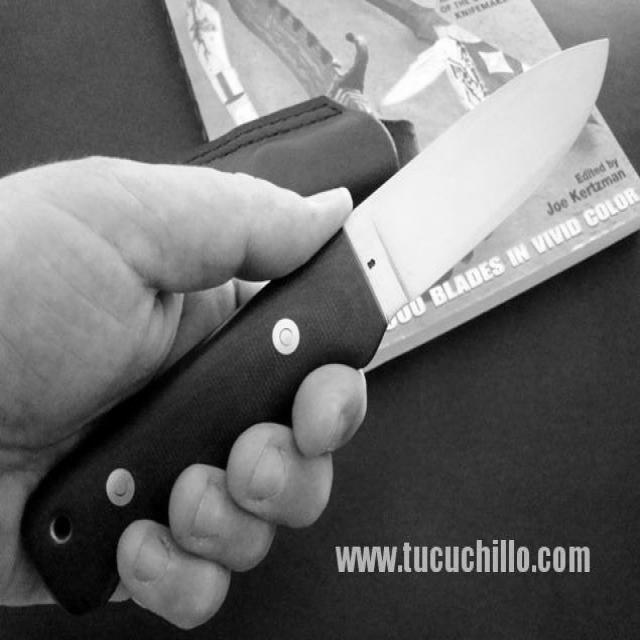knife: (21, 37, 608, 610)
